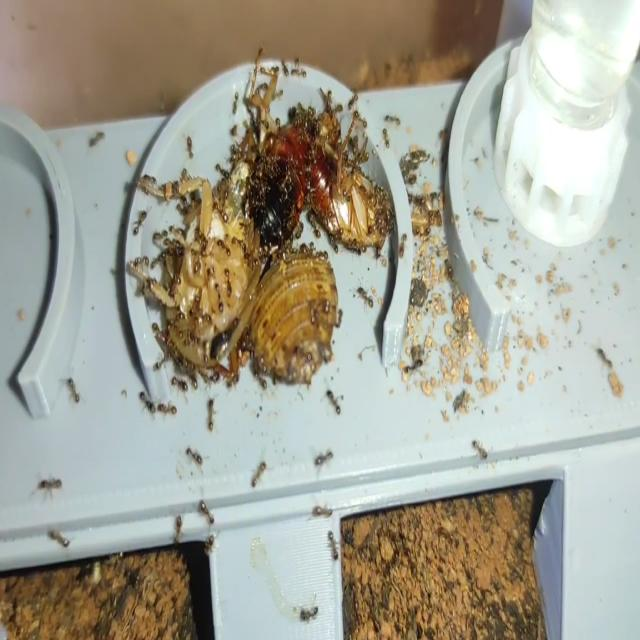Minor: (61, 366, 81, 406), (186, 443, 210, 473), (354, 278, 374, 314), (137, 388, 159, 419), (157, 397, 180, 424), (206, 391, 220, 431), (132, 206, 150, 237), (213, 197, 229, 223), (223, 266, 234, 298), (382, 126, 391, 150)
